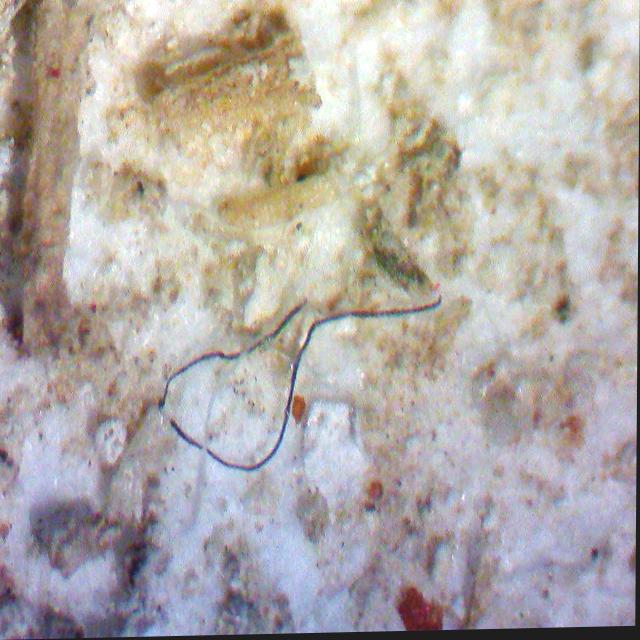microplastic: (159, 296, 442, 475)
